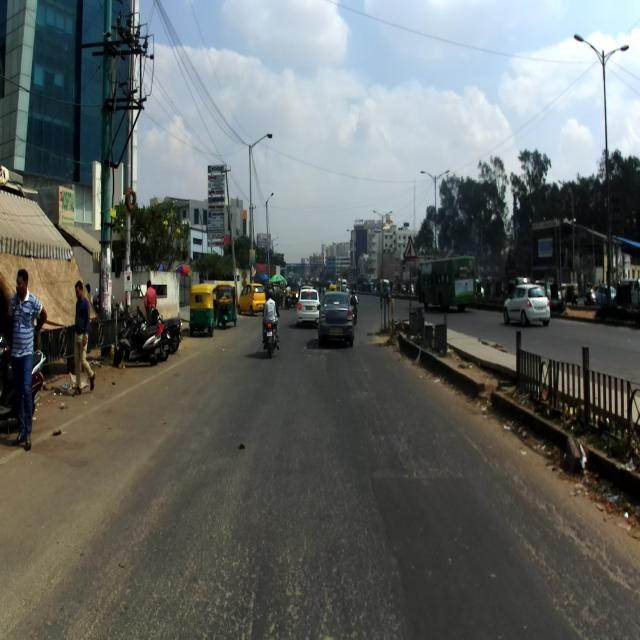auto ahead at: (187, 281, 214, 335)
car ahead at: (315, 291, 357, 355)
motorcycle ahead at: (112, 305, 166, 366)
person ahead at: (10, 253, 48, 456), (71, 271, 99, 401)
